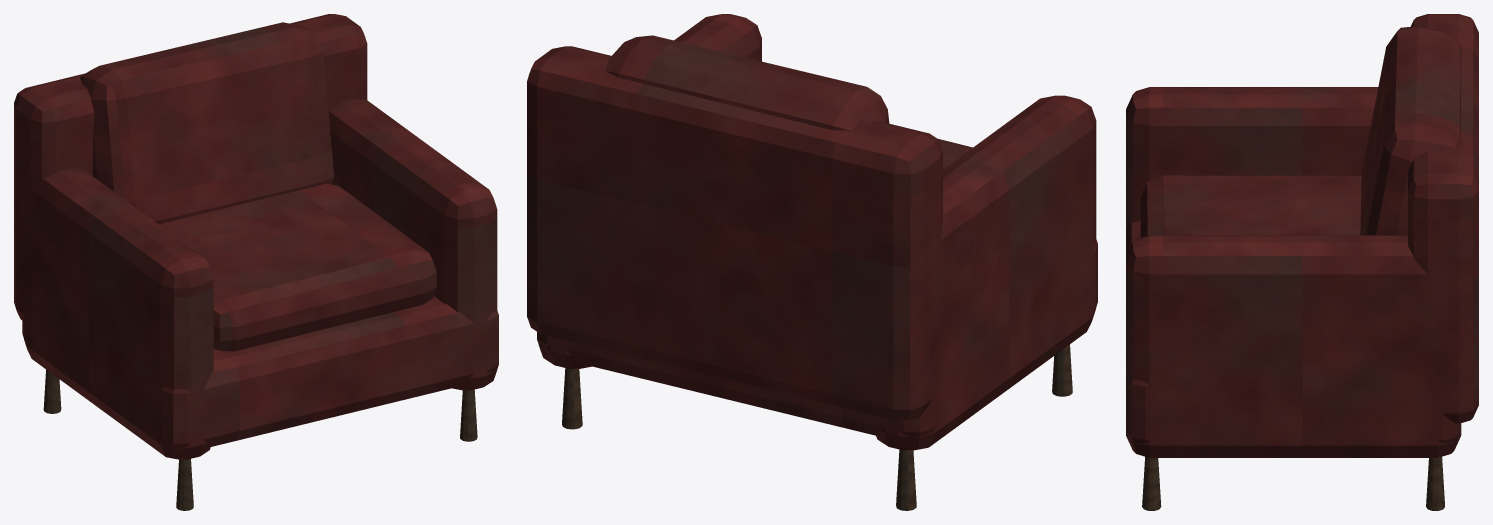
File: L02_armchair_v1.glb
3 views of the same model, side by side, from view 1: azimuth 30°, elevation 25°; view 2: azimuth 150°, elevation 25°; view 3: azimuth 270°, elevation 25° (orthographic). The views are drawn at different scales.
Visible parts, largest first — view 1: L02_armchair_v1; view 2: L02_armchair_v1; view 3: L02_armchair_v1.
Boxes of the visible parts, <box> form: L02_armchair_v1: <box>14,14,498,510</box>; L02_armchair_v1: <box>527,14,1097,510</box>; L02_armchair_v1: <box>1126,14,1478,510</box>.
Bounding box in the file's own units: 0.9 × 0.8593 × 0.7671.
2 materials, 2 textured.
